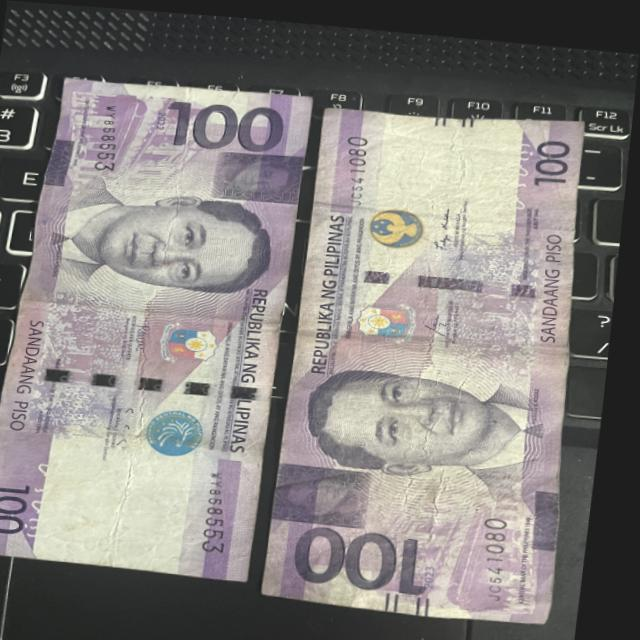concealed_value: (277, 456, 382, 520), (218, 147, 304, 198)
security_thread: (13, 362, 280, 398), (317, 256, 581, 292)
serial_number: (478, 499, 530, 593), (331, 120, 385, 206), (84, 87, 135, 174), (203, 457, 247, 555)
value: (295, 508, 450, 598), (159, 90, 293, 154)
value_watermark: (89, 529, 139, 555)
watermark: (64, 452, 224, 556), (381, 124, 511, 213)
